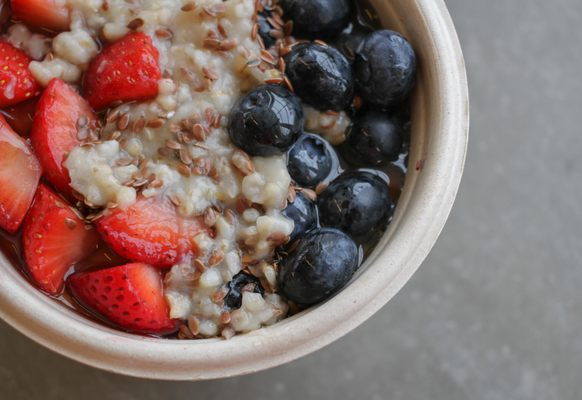sushi: (0, 2, 473, 383)
